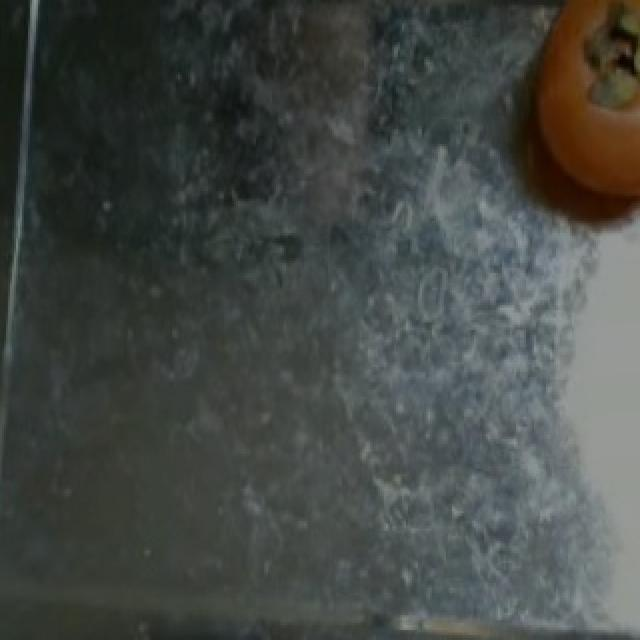Fruit: (494, 3, 640, 238)
